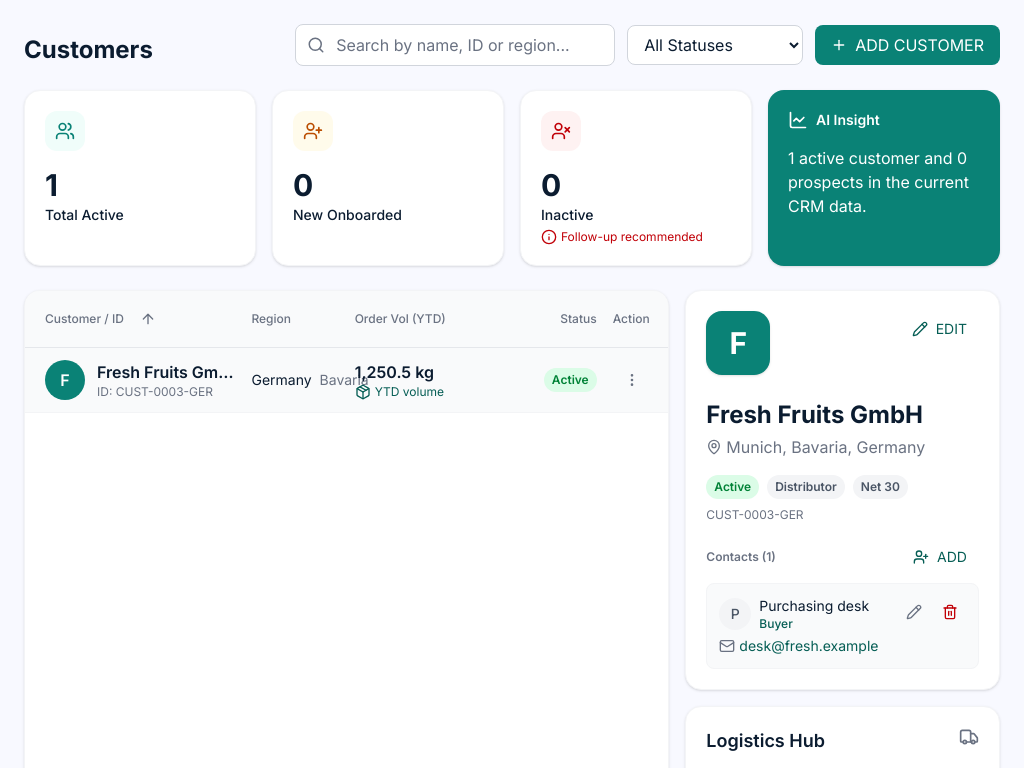
Test case: CustomersPage › creates a customer from the Add customer dialog
This screenshot has width=1024, height=768.
Check: the button "Fresh Fruits GmbH" is shown, box [97, 360, 235, 384]
Click the button "ADD CUSTOMER".
click(908, 45)  # box [815, 25, 1000, 65]
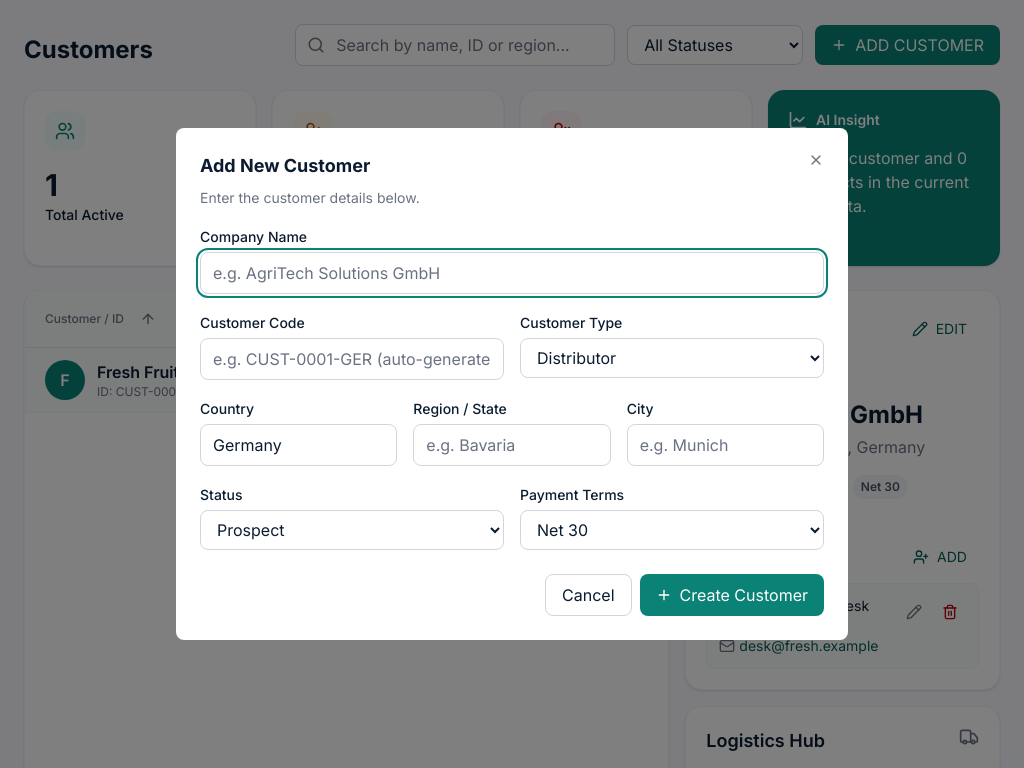
Type "Mango Export SARL" into the field labelled "Company Name".
click(512, 273); type("Mango Export SARL")  # box [200, 252, 824, 294]
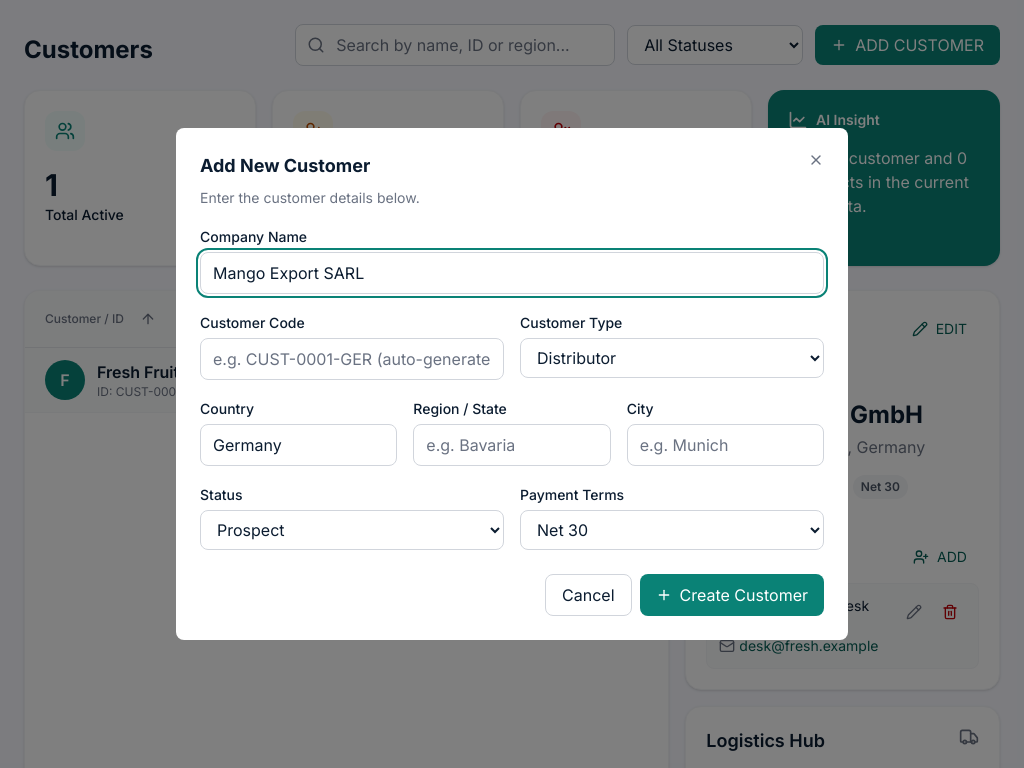
Click the button "Create Customer".
click(732, 595)  # box [640, 574, 824, 616]
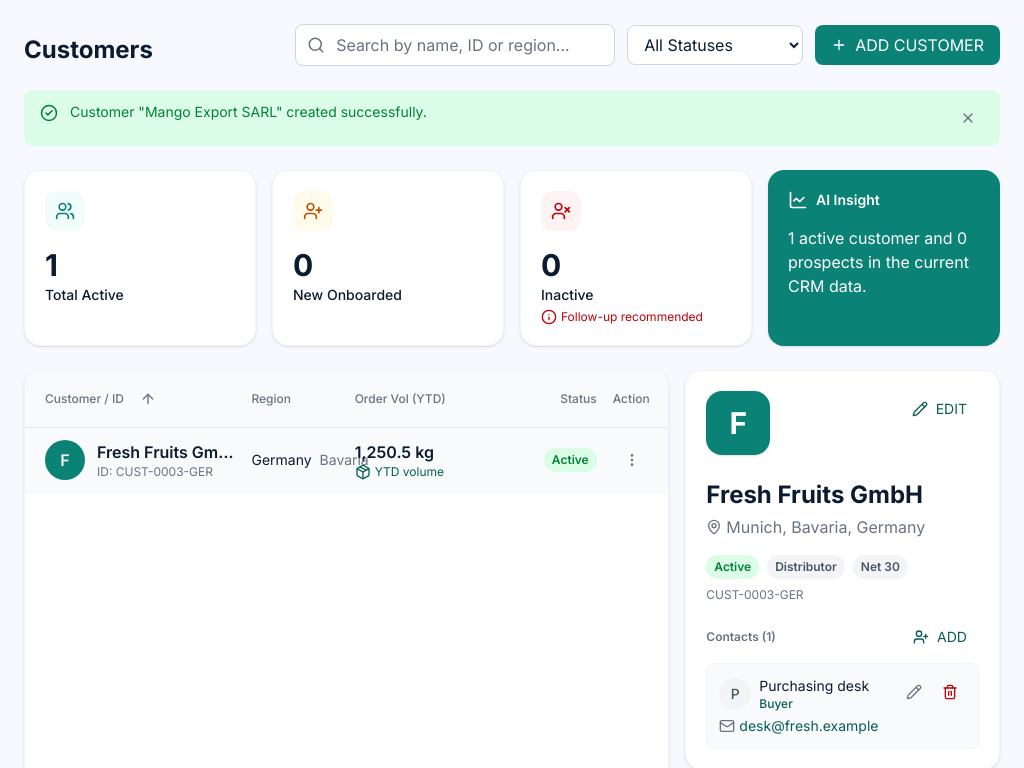
Check: the text "Customer \"Mango Export SARL\" created successfully." is shown, box [70, 103, 427, 120]
